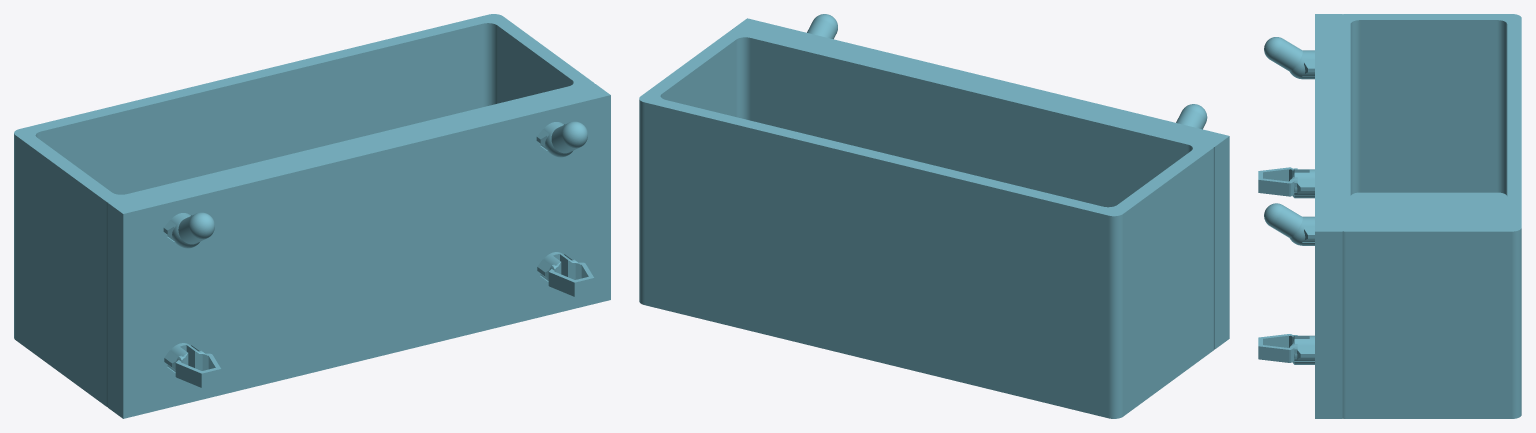
The model's file is part-pb01__current-mounts-v1__fit-pf02c9-hoop5__print.glb.
3 views of the same model, side by side, from view 1: azimuth 30°, elevation 25°; view 2: azimuth 150°, elevation 25°; view 3: azimuth 270°, elevation 25° (orthographic). The views are drawn at different scales.
Visible parts, largest first — view 1: print.stl; view 2: print.stl; view 3: print.stl.
Boxes of the visible parts, x1=… form: print.stl: x1=14, y1=14, x2=610, y2=418; print.stl: x1=639, y1=14, x2=1229, y2=418; print.stl: x1=1258, y1=14, x2=1521, y2=418.
Size of the model in its own units: 0.0996 by 0.0403 by 0.0509.
